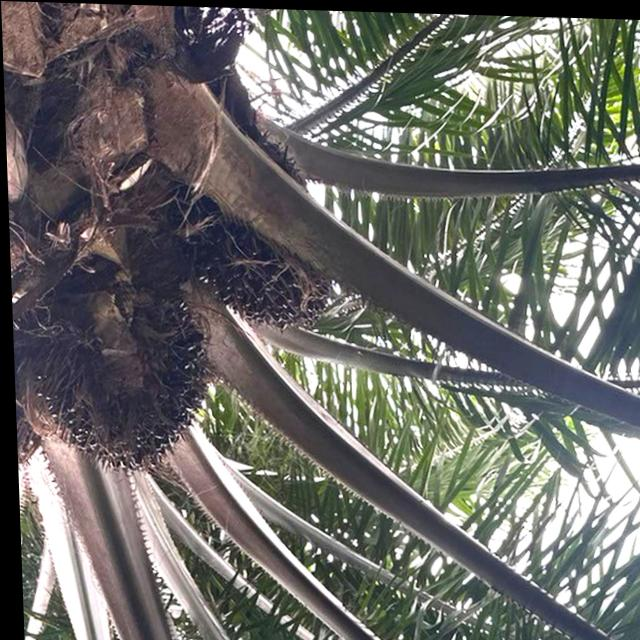almost: (8, 272, 212, 484), (185, 126, 336, 335)
